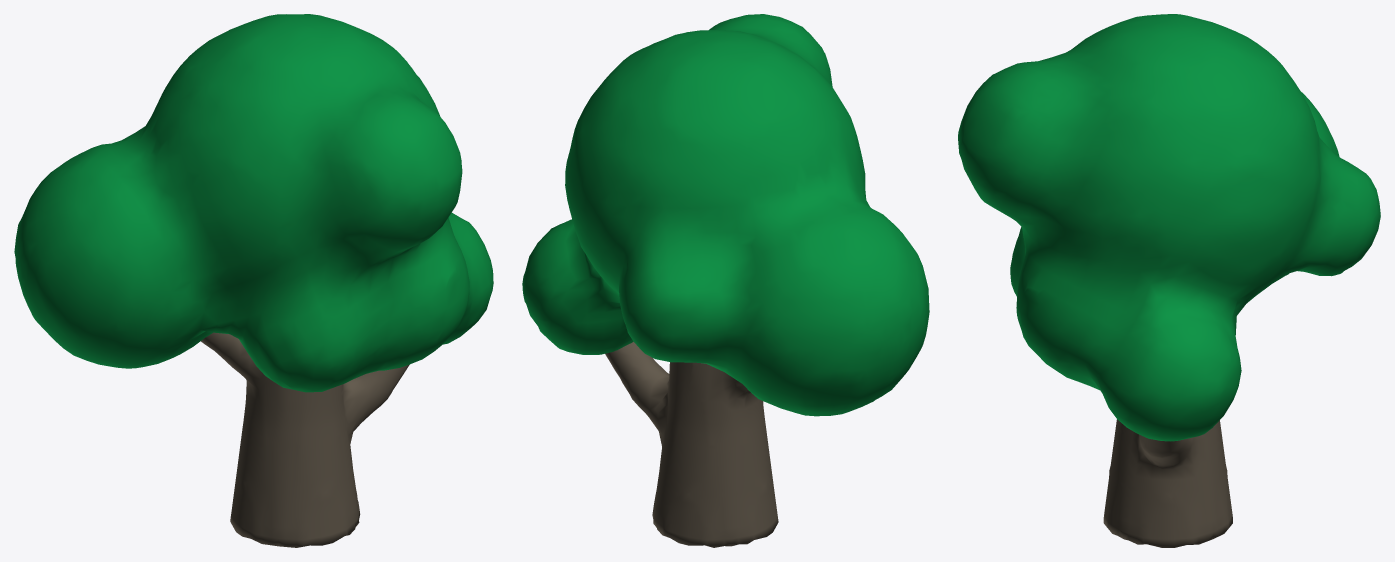
File: Tree_v01.glb
3 renders of one model, left to right at view 1: azimuth 30°, elevation 25°; view 2: azimuth 150°, elevation 25°; view 3: azimuth 270°, elevation 25°, orthographic. The views are drawn at different scales.
Visible parts, largest first — view 1: TreeLeaf, TreeTrunk; view 2: TreeLeaf, TreeTrunk; view 3: TreeLeaf, TreeTrunk.
Part boxes in pixels (x1,y1,x2,y2): TreeLeaf: (14,14,493,392); TreeTrunk: (201,332,409,547); TreeLeaf: (522,14,929,416); TreeTrunk: (605,341,778,547); TreeLeaf: (958,14,1380,441); TreeTrunk: (1103,419,1232,547).
Size of the model in its own units: 0.7723 by 0.8568 by 0.6676.
